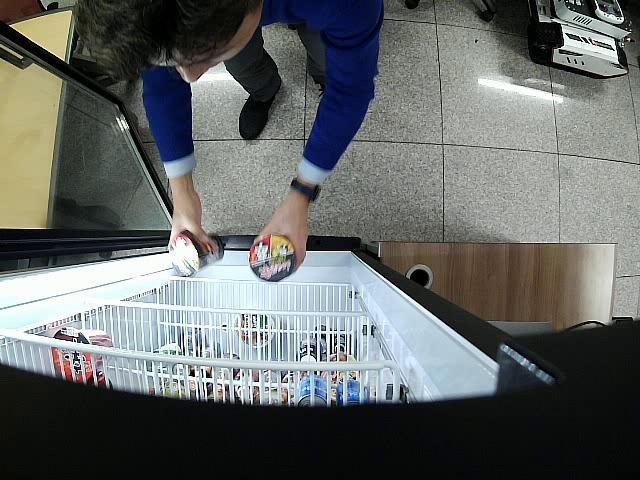00_hand: (253, 195, 307, 271), (169, 190, 210, 245)
08_buldak_S: (171, 231, 224, 276), (249, 236, 295, 282)
